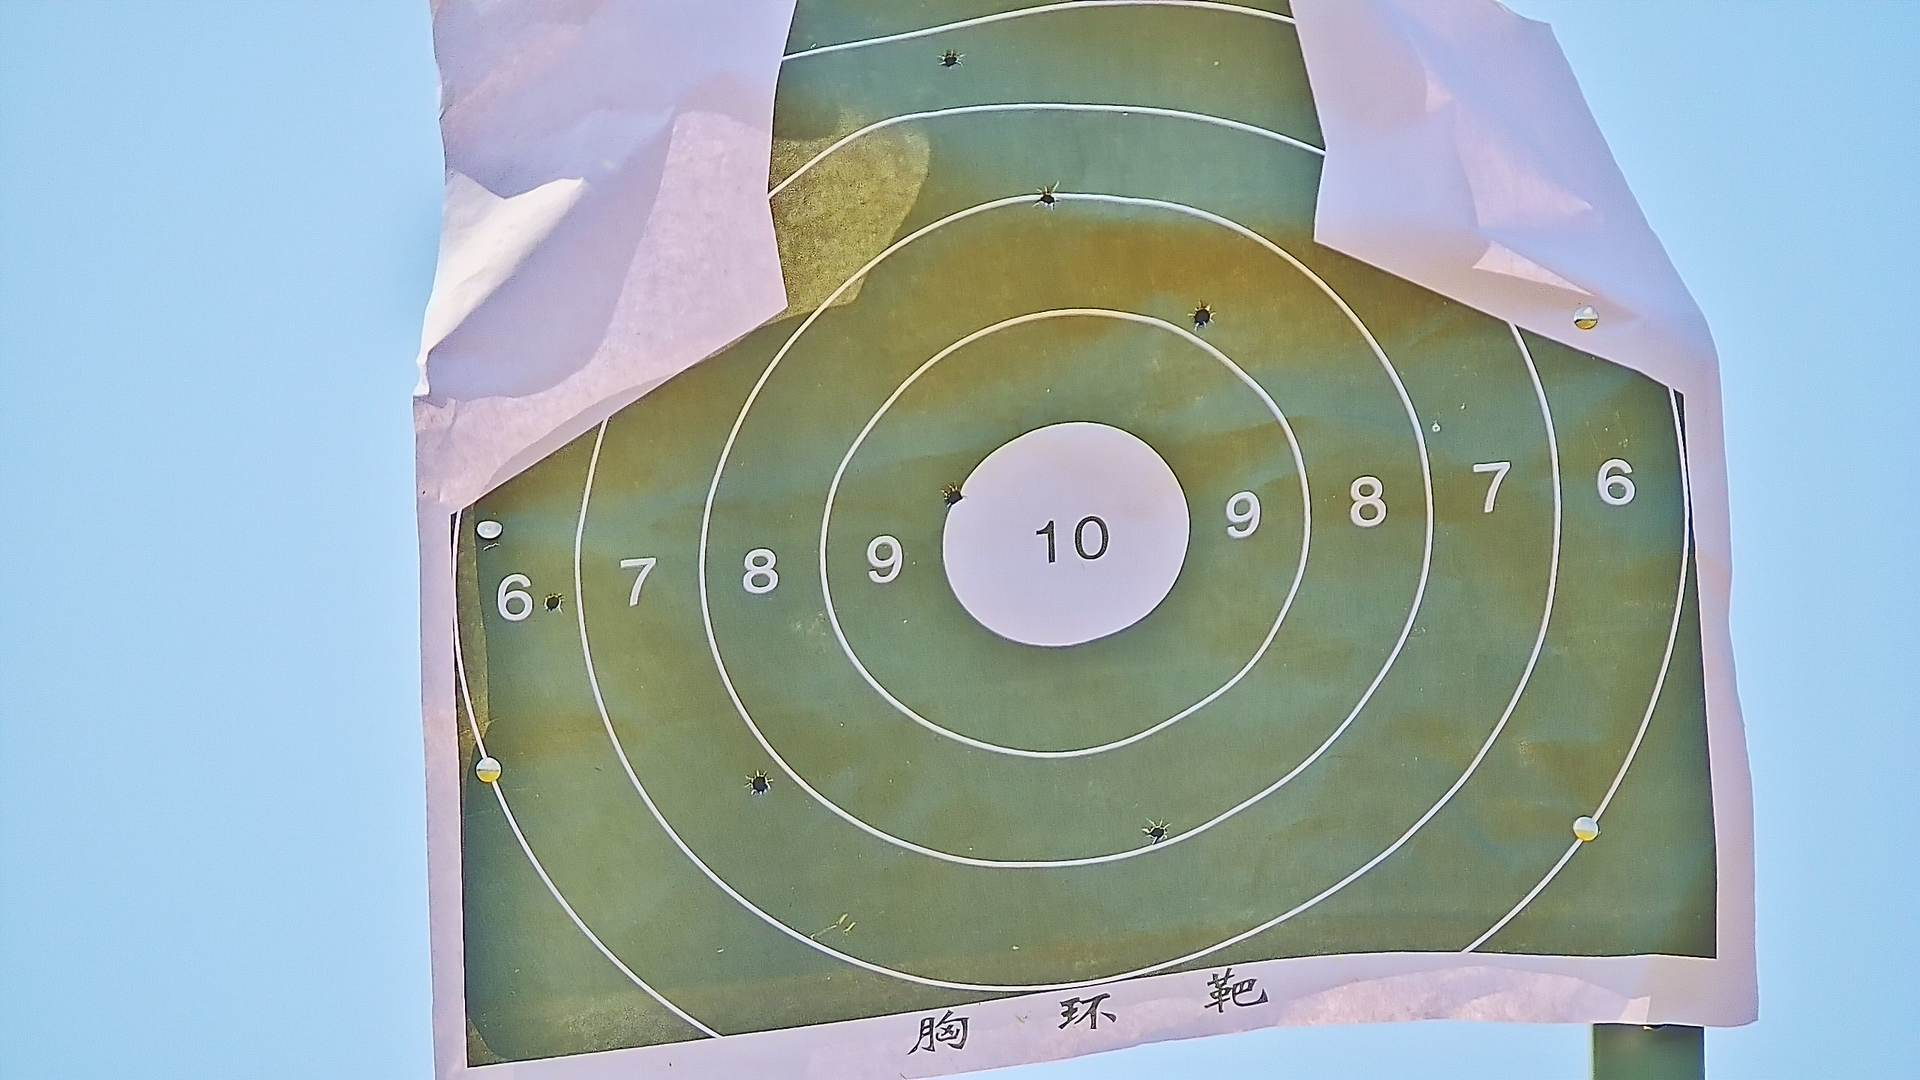hole: (1192, 307, 1215, 326), (944, 487, 963, 505), (752, 774, 767, 793), (545, 593, 559, 611), (942, 51, 956, 67), (1040, 193, 1056, 207), (1150, 825, 1164, 840)
kernel: (1059, 541, 1071, 545)
target: (446, 3, 1721, 1073)
ten: (942, 425, 1197, 651)
